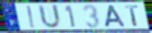1: (64, 5, 77, 28)
3: (82, 3, 102, 30)
A: (104, 5, 128, 28)
I: (26, 5, 37, 29)
T: (124, 4, 140, 27)
U: (38, 4, 63, 30)
